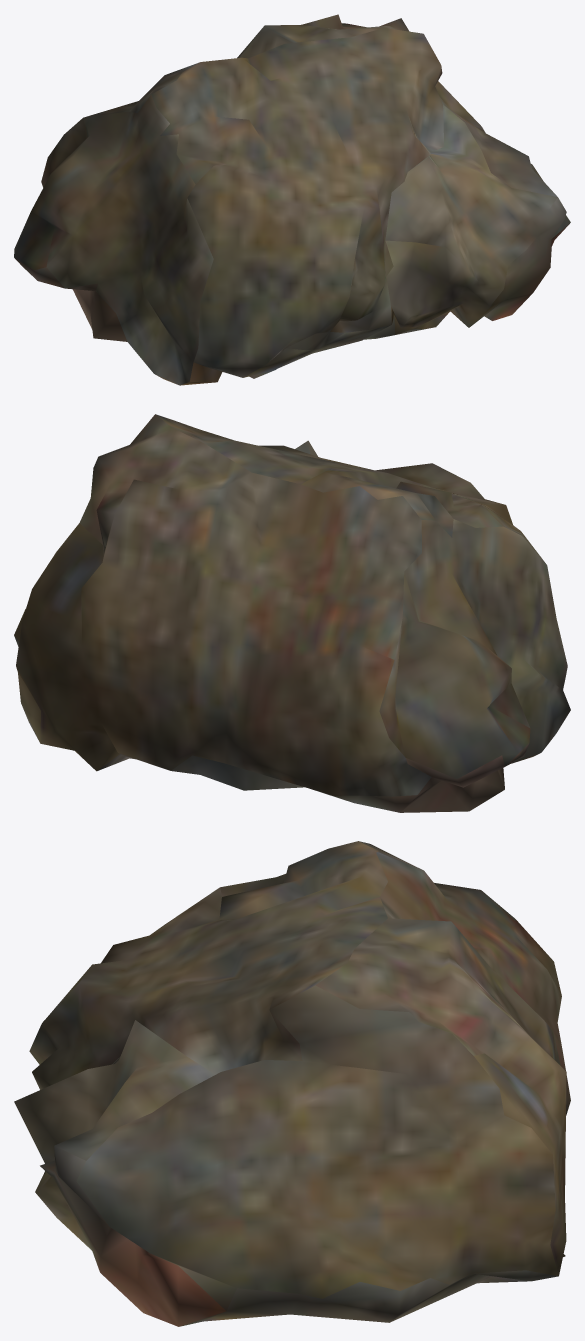
The model's file is Q_Rock_1.fbx.
3 renders of one model, top to bottom at view 1: azimuth 30°, elevation 25°; view 2: azimuth 150°, elevation 25°; view 3: azimuth 270°, elevation 25°, orthographic. The views are drawn at different scales.
Visible parts, largest first — view 1: Aset_rock_smooth_S_uglldgifa_00_LOD4; view 2: Aset_rock_smooth_S_uglldgifa_00_LOD4; view 3: Aset_rock_smooth_S_uglldgifa_00_LOD4.
Part boxes in pixels (bbox=[...]): Aset_rock_smooth_S_uglldgifa_00_LOD4: bbox=[14, 14, 570, 385]; Aset_rock_smooth_S_uglldgifa_00_LOD4: bbox=[14, 414, 570, 812]; Aset_rock_smooth_S_uglldgifa_00_LOD4: bbox=[14, 841, 570, 1326].
Bounding box in the file's own units: 5.55 × 2.94 × 4.47.
1 material, 1 textured.
